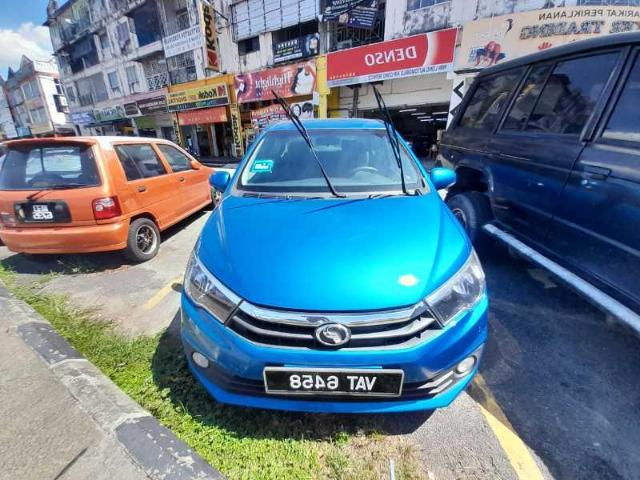License_Plate: (263, 367, 405, 399), (25, 206, 62, 222)
car: (177, 114, 489, 416), (1, 136, 229, 264)
